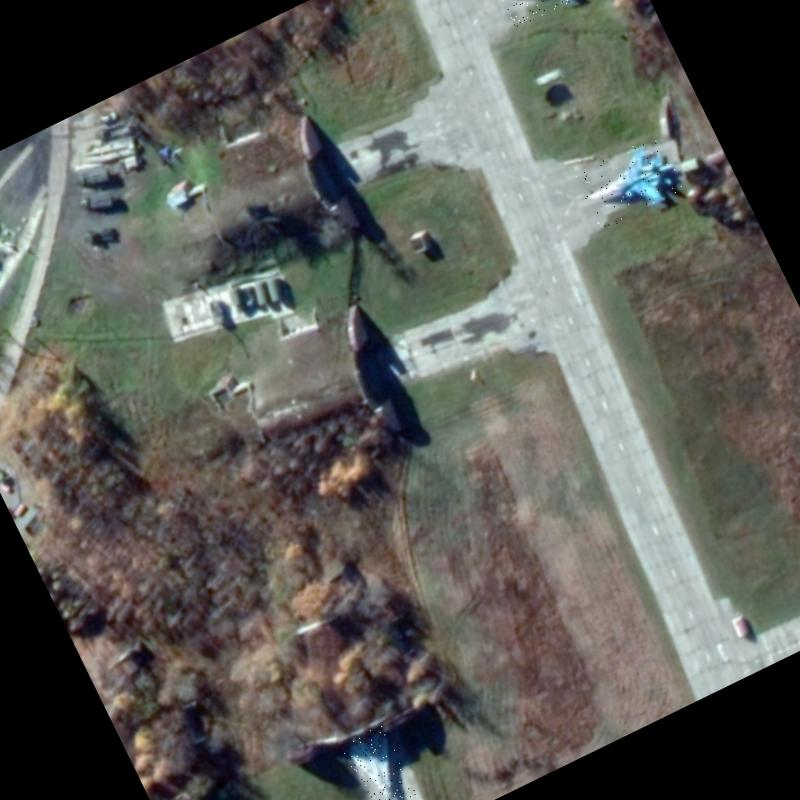A19: (574, 133, 686, 232), (488, 0, 600, 28)
A20: (339, 724, 421, 800)
